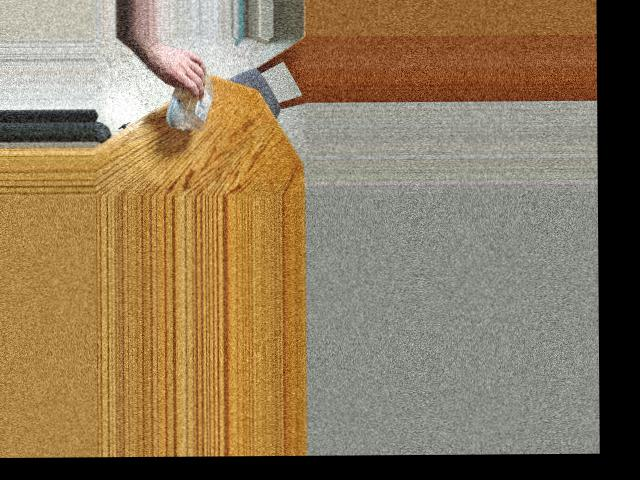cheese: (164, 58, 211, 112)
